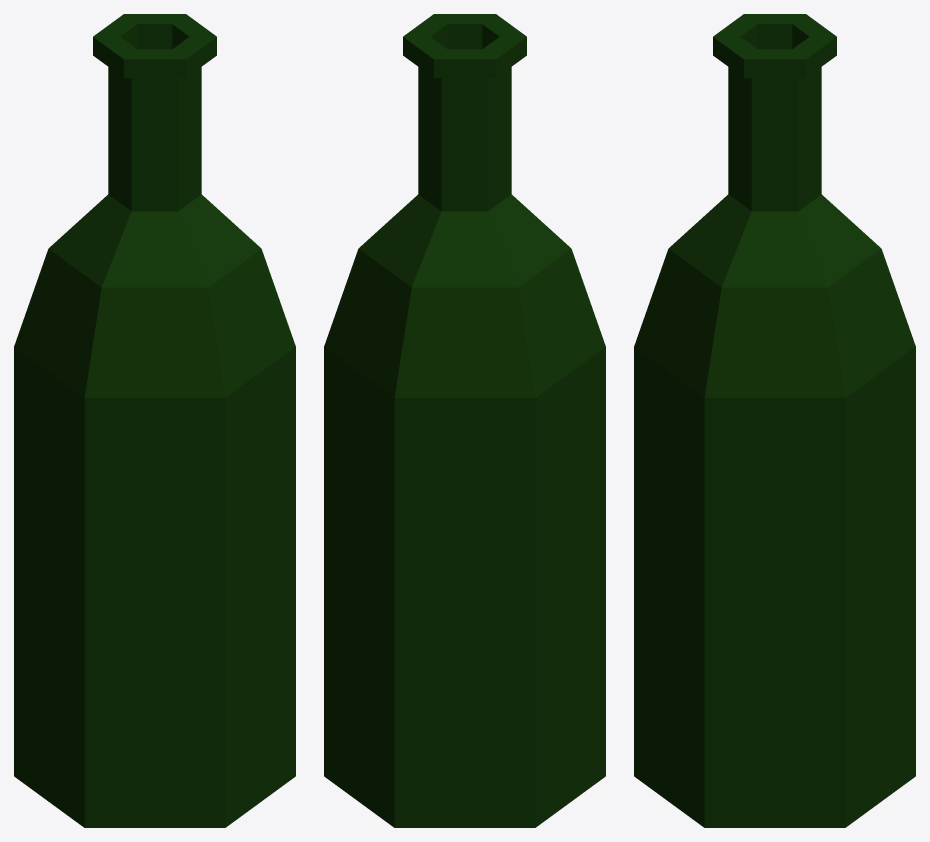
The model's file is Bottle.fbx.
The picture shows the model from 3 angles, left to right: view 1: azimuth 30°, elevation 25°; view 2: azimuth 150°, elevation 25°; view 3: azimuth 270°, elevation 25°; orthographic projection.
Parts seen in each view (by area): view 1: Cylinder.005; view 2: Cylinder.005; view 3: Cylinder.005.
Part boxes in pixels (left/top/right/bottom): Cylinder.005: left=14, top=14, right=295, bottom=827; Cylinder.005: left=324, top=14, right=605, bottom=827; Cylinder.005: left=634, top=14, right=915, bottom=827.
Bounding box in the file's own units: 22.34 × 64.72 × 19.35.
